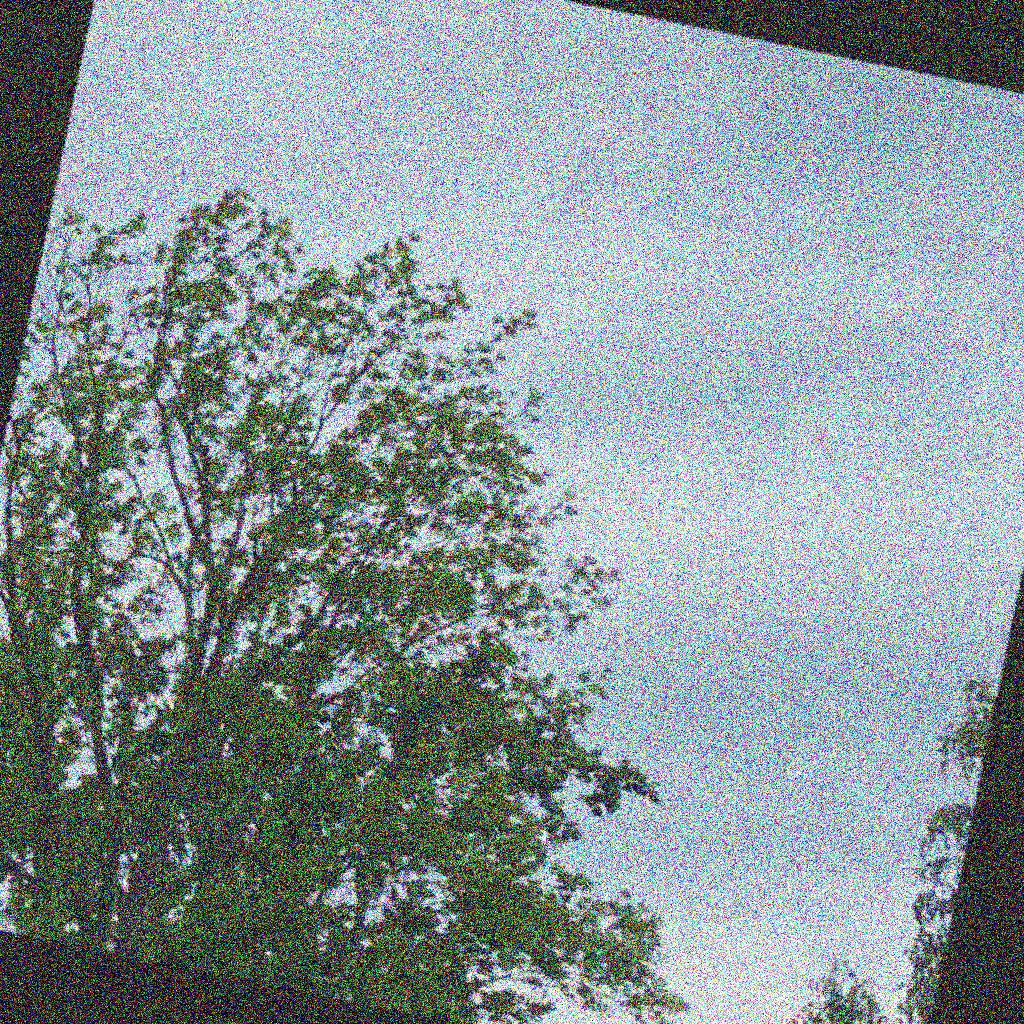tree: (1, 188, 690, 1024), (788, 679, 998, 1024)
